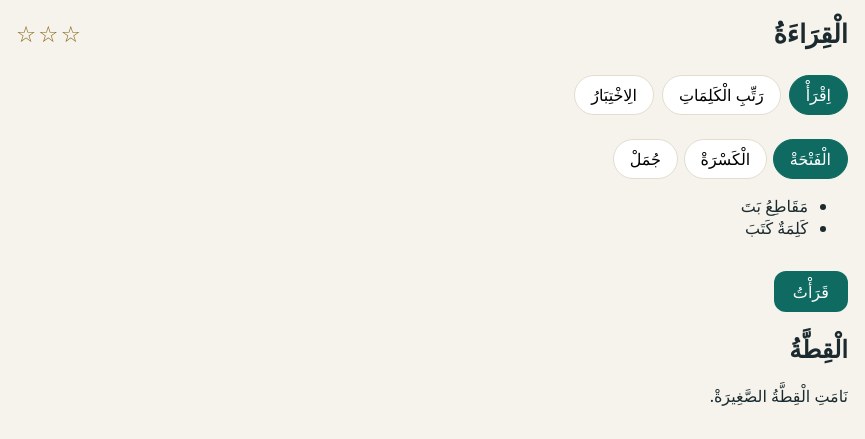
Test: ReadingLesson (P0-5c) › lesson 10: the passage's sentences are put in order too
Click the button "رَتِّبِ الْكَلِمَاتِ".
click(721, 95)  # box [662, 75, 781, 115]
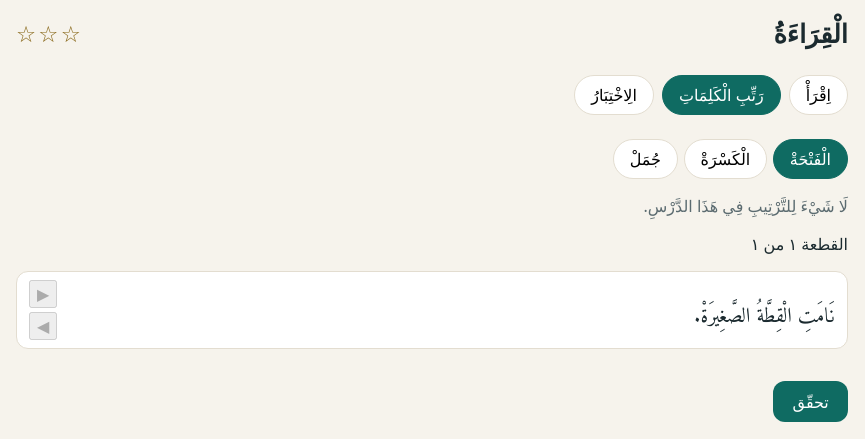
Expected: the element named "رتّب الجمل" is shown, [16, 233, 848, 422]
